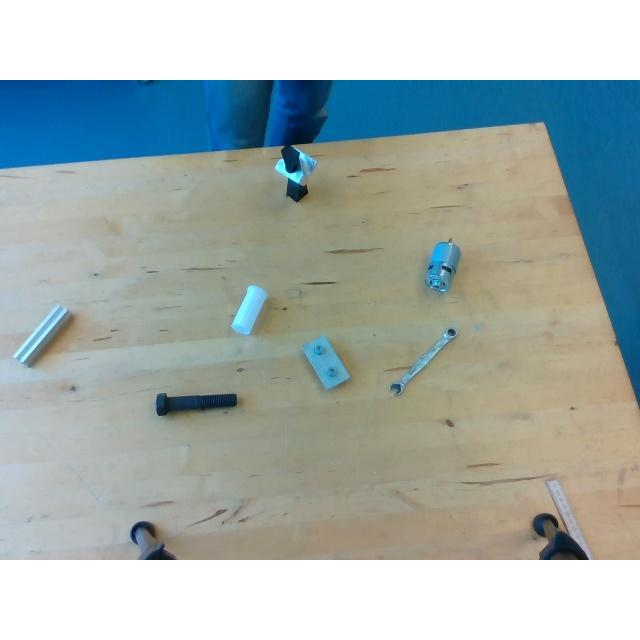F20_20_G: (12, 303, 72, 365)
M20_100: (156, 392, 237, 416)
Motor2: (426, 238, 462, 290)
Spacer: (230, 285, 266, 333)
Wrench: (387, 328, 457, 396)
